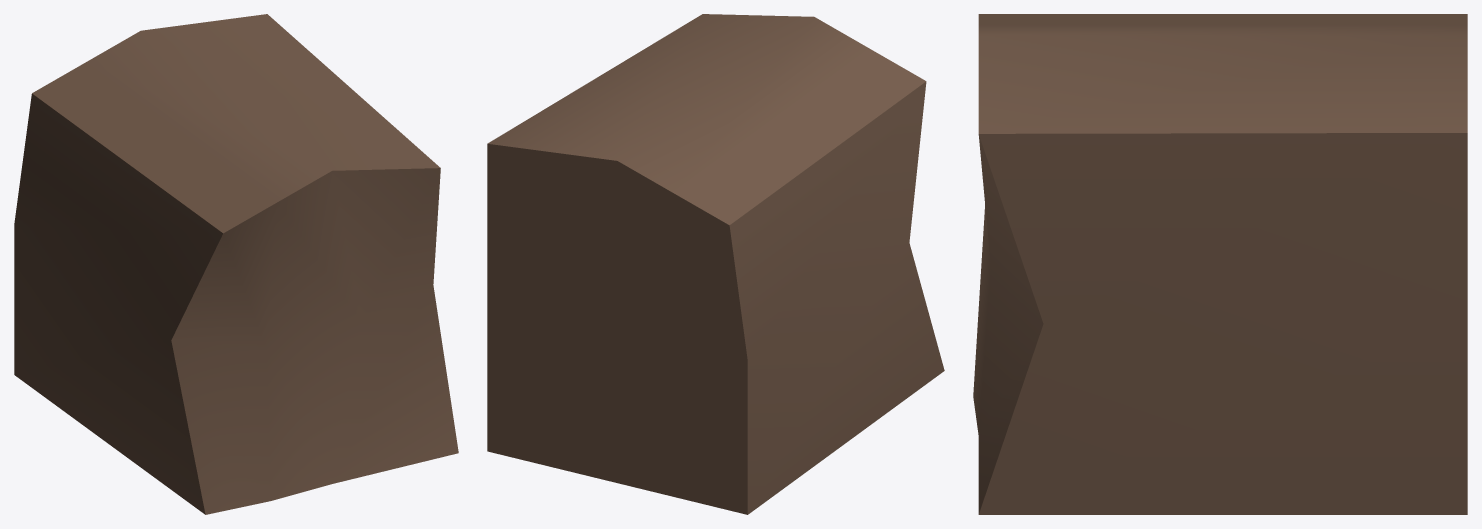
Rendered from plate.gltf.
3 views of the same model, side by side, from view 1: azimuth 30°, elevation 25°; view 2: azimuth 150°, elevation 25°; view 3: azimuth 270°, elevation 25° (orthographic). The views are drawn at different scales.
Parts seen in each view (by area): view 1: Cube 5; view 2: Cube 5; view 3: Cube 5.
Part boxes in pixels (bbox=[...]): Cube 5: bbox=[14, 14, 458, 514]; Cube 5: bbox=[487, 14, 944, 514]; Cube 5: bbox=[973, 14, 1467, 514].
Size of the model in its own units: 0.6526 by 0.7714 by 0.8638.
